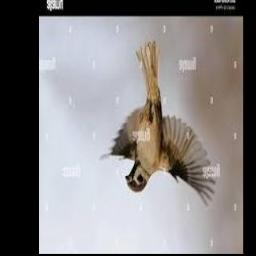Sparrow: (100, 41, 215, 207)
